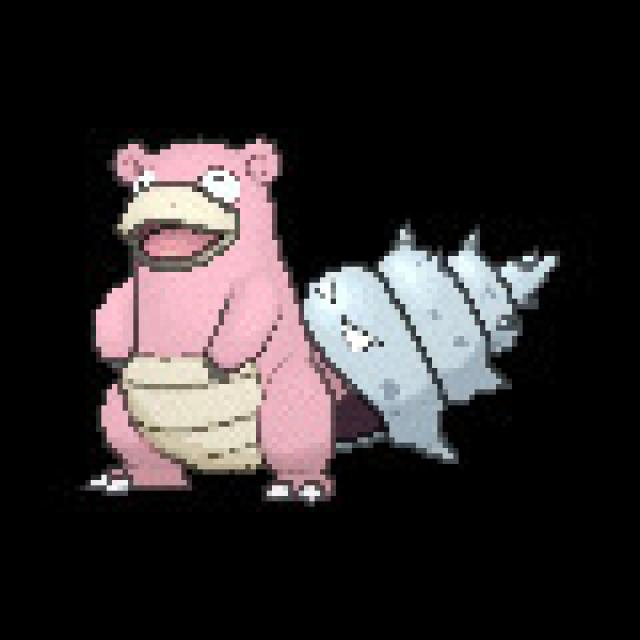Slowbro: (85, 133, 399, 508)
